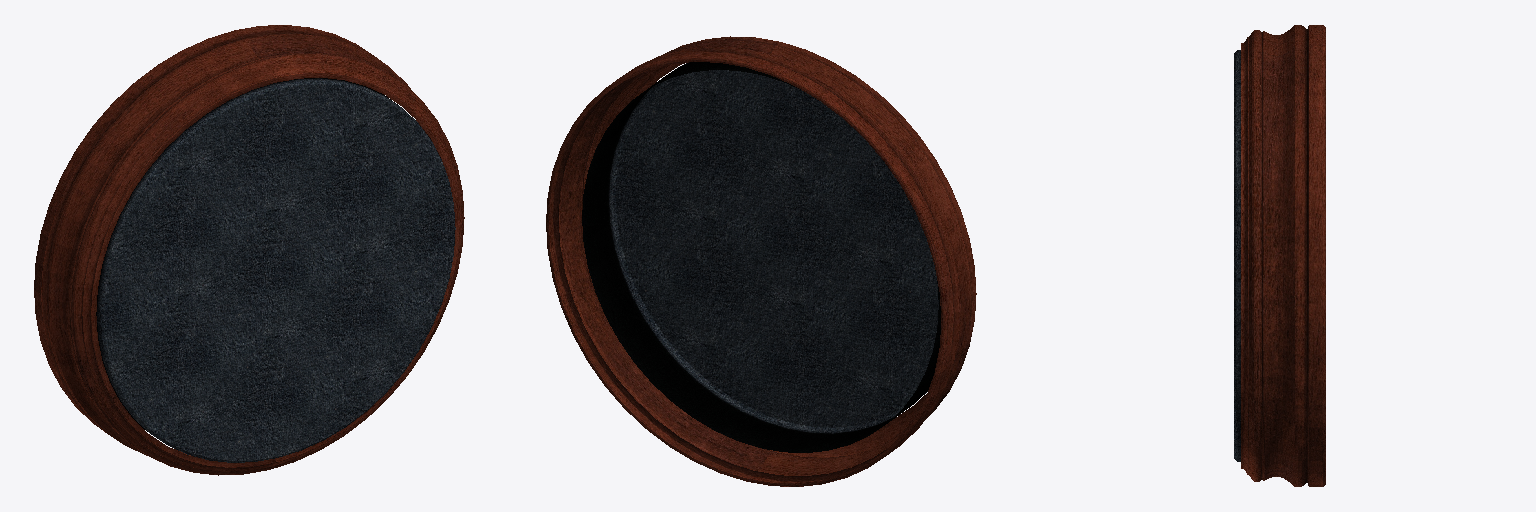
The picture shows the model from 3 angles: view 1: azimuth 30°, elevation 25°; view 2: azimuth 150°, elevation 25°; view 3: azimuth 270°, elevation 25°; orthographic projection.
Bounding box in the file's own units: 164 × 164 × 32.4.
1 materials, 1 textured.